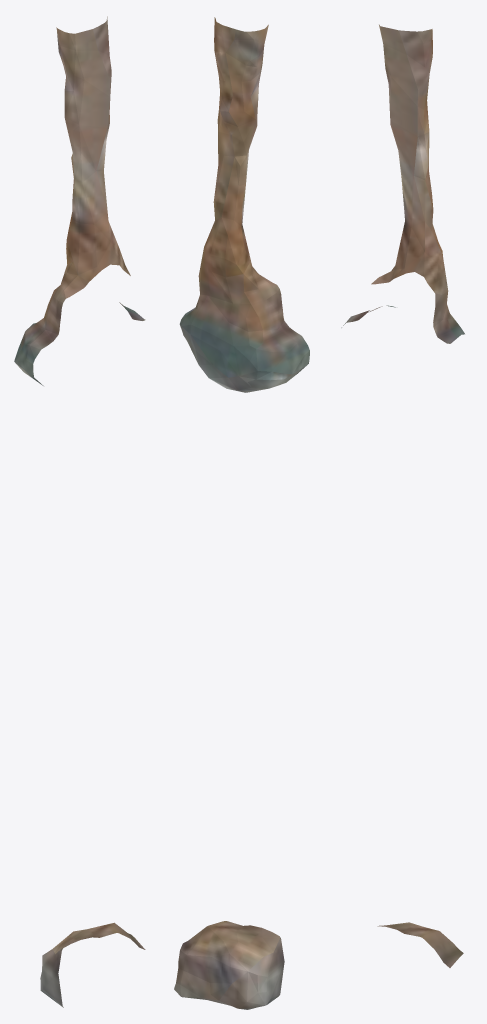
The model's file is Tile_+004_+001_L22_00034000.glb.
3 views of the same model, side by side, from view 1: azimuth 30°, elevation 25°; view 2: azimuth 150°, elevation 25°; view 3: azimuth 330°, elevation 25° (orthographic).
Visible parts, largest first — view 1: rtc; view 2: rtc; view 3: rtc.
Part boxes in pixels (x1,y1,x2,y2): rtc: [14, 16, 145, 1007]; rtc: [174, 17, 309, 1009]; rtc: [341, 24, 464, 967].
Bounding box in the file's own units: 2.07 × 17.14 × 0.9751.
1 material, 1 textured.
